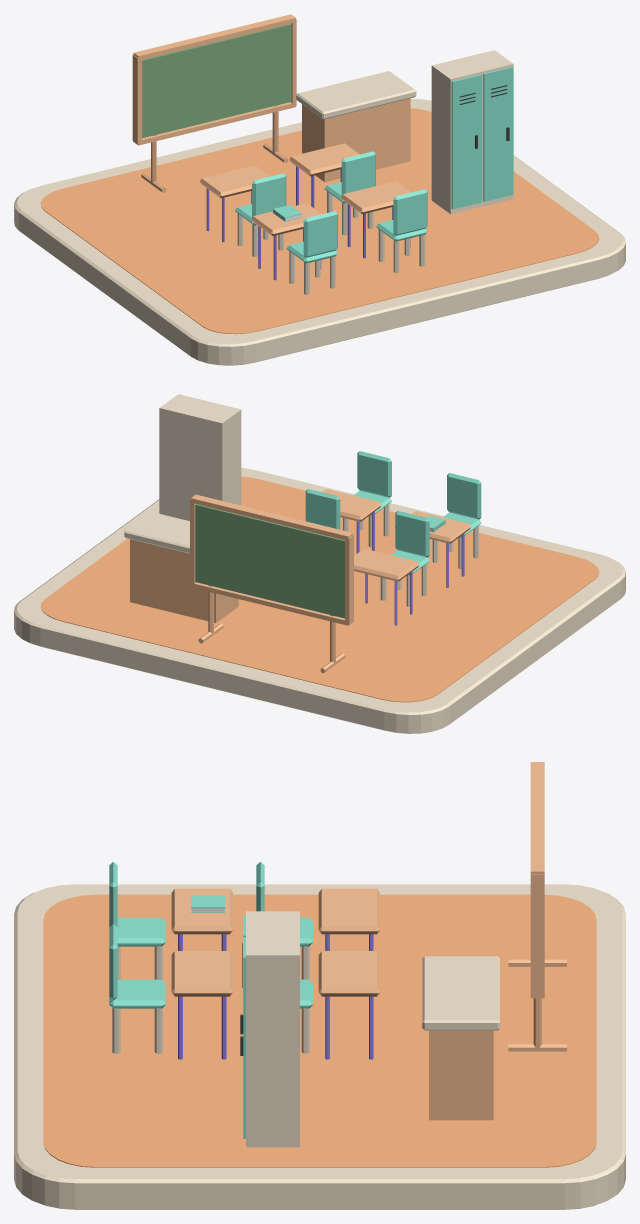
3 views of the same model, one above another, from view 1: azimuth 30°, elevation 25°; view 2: azimuth 150°, elevation 25°; view 3: azimuth 270°, elevation 25° (orthographic). The views are drawn at different scales.
Visible parts, largest first — view 1: COM-02 Floor Surface, COM-01 Rounded Base Direct, Board, Desk body, Case, Door.001, Door, Desk top, Rail.001, Backrest.001, Backrest, Rounded table top.001 (+8 smaller); view 2: COM-02 Floor Surface, COM-01 Rounded Base Direct, Board, Case, Desk body, Desk top, Rail.001, Rounded table top.002, Backrest, Backrest.001, Backrest.002, Backrest.003 (+5 smaller); view 3: COM-02 Floor Surface, COM-01 Rounded Base Direct, Case, Desk body, Desk top, Rounded table top.002, Rounded table top.003, Rounded table top.001, Rounded table top, Frame.001, Rail.001, Seat.001 (+2 smaller).
Boxes of the visible parts, x1,y1,x2,y2 form: COM-02 Floor Surface: (40, 108, 599, 334); COM-01 Rounded Base Direct: (14, 98, 625, 365); Board: (142, 24, 291, 138); Desk body: (302, 98, 410, 181); Case: (431, 50, 513, 214); Door.001: (483, 66, 513, 201); Door: (451, 74, 481, 209); Desk top: (296, 71, 416, 119); Rail.001: (133, 14, 295, 59); Backrest.001: (393, 189, 427, 235); Backrest: (303, 211, 337, 257); Rounded table top.001: (341, 181, 411, 214); COM-02 Floor Surface: (40, 476, 599, 702); COM-01 Rounded Base Direct: (14, 467, 625, 733); Board: (195, 504, 344, 618); Case: (159, 394, 241, 520); Desk body: (130, 539, 238, 622); Desk top: (124, 512, 189, 553); Rail.001: (190, 494, 353, 539); Rounded table top.002: (354, 548, 419, 581); Backrest: (447, 473, 481, 519); Backrest.001: (357, 451, 391, 497); Backrest.002: (395, 511, 429, 557); Backrest.003: (305, 489, 340, 529); COM-02 Floor Surface: (43, 894, 596, 1167); COM-01 Rounded Base Direct: (14, 884, 625, 1209); Case: (246, 911, 299, 1147); Desk body: (429, 1030, 493, 1120); Desk top: (422, 956, 499, 1030); Rounded table top.002: (318, 888, 379, 934); Rounded table top.003: (318, 951, 379, 996); Rounded table top.001: (171, 951, 232, 996); Rounded table top: (171, 888, 232, 934); Frame.001: (530, 874, 544, 997); Rail.001: (530, 762, 544, 874); Seat.001: (109, 979, 165, 1008).
Bounding box in the file's own units: 6 × 2.12 × 5.2.
1 material, 1 textured.
